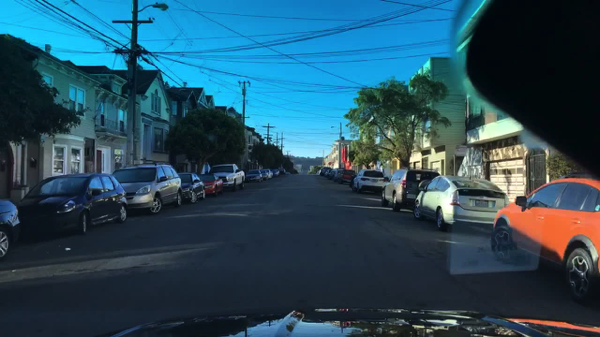car: (489, 177, 598, 301), (17, 173, 127, 236), (414, 178, 510, 232), (111, 161, 182, 215), (381, 168, 442, 212), (0, 196, 23, 262), (208, 164, 245, 191), (351, 169, 389, 194), (177, 172, 206, 204), (198, 174, 225, 197), (337, 169, 357, 184), (245, 169, 264, 183), (333, 169, 344, 183), (259, 169, 270, 181), (328, 169, 337, 181), (265, 169, 275, 179), (322, 167, 331, 178), (326, 169, 334, 179), (271, 169, 278, 177), (319, 167, 325, 176), (275, 169, 280, 177), (316, 171, 319, 175)
